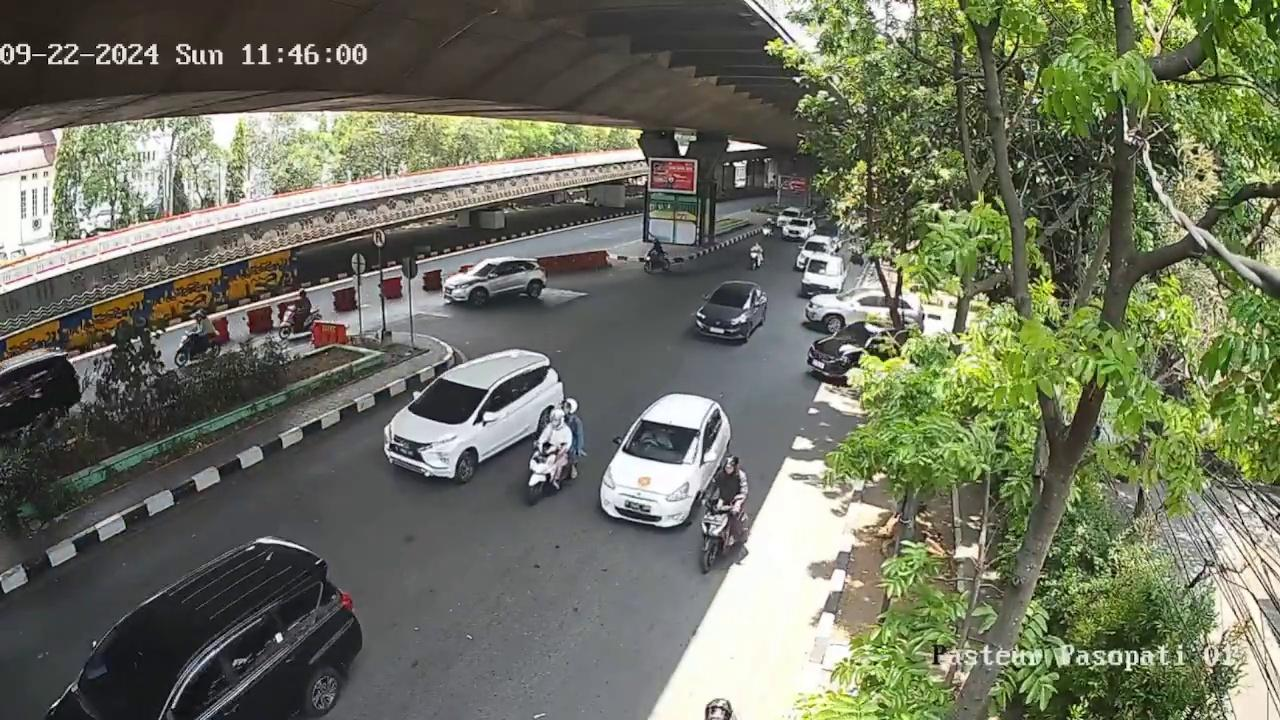pakai: (640, 428, 675, 454)
windshield: (407, 377, 490, 424), (620, 418, 702, 465), (708, 288, 752, 310)
